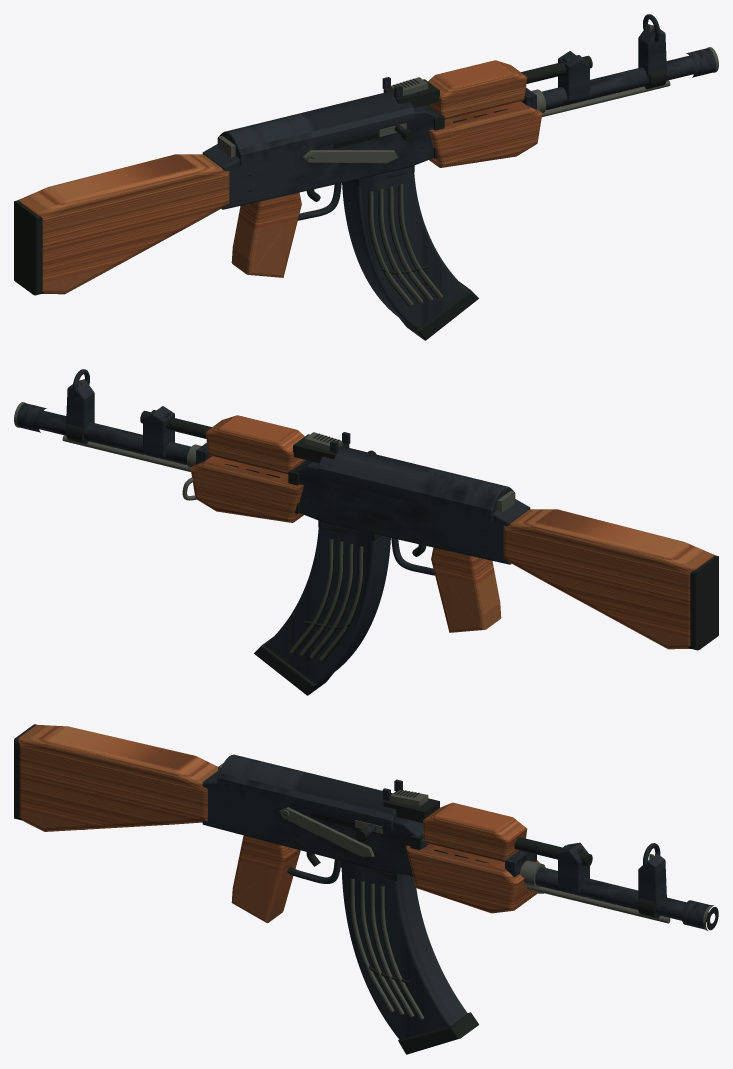
The model's file is ak47-exterior.glb.
3 views of the same model, one above another, from view 1: azimuth 30°, elevation 25°; view 2: azimuth 150°, elevation 25°; view 3: azimuth 330°, elevation 25° (orthographic).
Parts seen in each view (by area): view 1: AK-47 — exterior study, Walnut stock, Curved exterior magazine, Exterior receiver, Lower walnut handguard, Walnut grip; view 2: AK-47 — exterior study, Walnut stock, Curved exterior magazine, Exterior receiver, Lower walnut handguard, Walnut grip; view 3: AK-47 — exterior study, Walnut stock, Curved exterior magazine, Exterior receiver, Lower walnut handguard, Walnut grip.
Part boxes in pixels (bbox=[...]): AK-47 — exterior study: bbox=[14, 14, 718, 340]; Walnut stock: bbox=[18, 154, 229, 294]; Curved exterior magazine: bbox=[342, 167, 467, 329]; Exterior receiver: bbox=[202, 105, 438, 209]; Lower walnut handguard: bbox=[429, 101, 542, 167]; Walnut grip: bbox=[231, 192, 301, 277]; AK-47 — exterior study: bbox=[14, 369, 718, 695]; Walnut stock: bbox=[503, 509, 714, 649]; Curved exterior magazine: bbox=[265, 521, 390, 684]; Exterior receiver: bbox=[294, 460, 530, 564]; Lower walnut handguard: bbox=[190, 456, 303, 522]; Walnut grip: bbox=[431, 547, 501, 632]; AK-47 — exterior study: bbox=[14, 724, 718, 1054]; Walnut stock: bbox=[18, 725, 217, 831]; Curved exterior magazine: bbox=[341, 861, 467, 1039]; Exterior receiver: bbox=[202, 771, 428, 875]; Lower walnut handguard: bbox=[406, 844, 539, 913]; Walnut grip: bbox=[231, 835, 300, 922].
Size of the model in its own units: 8.7 by 3.16 by 0.9243.
7 materials, 3 textured.
